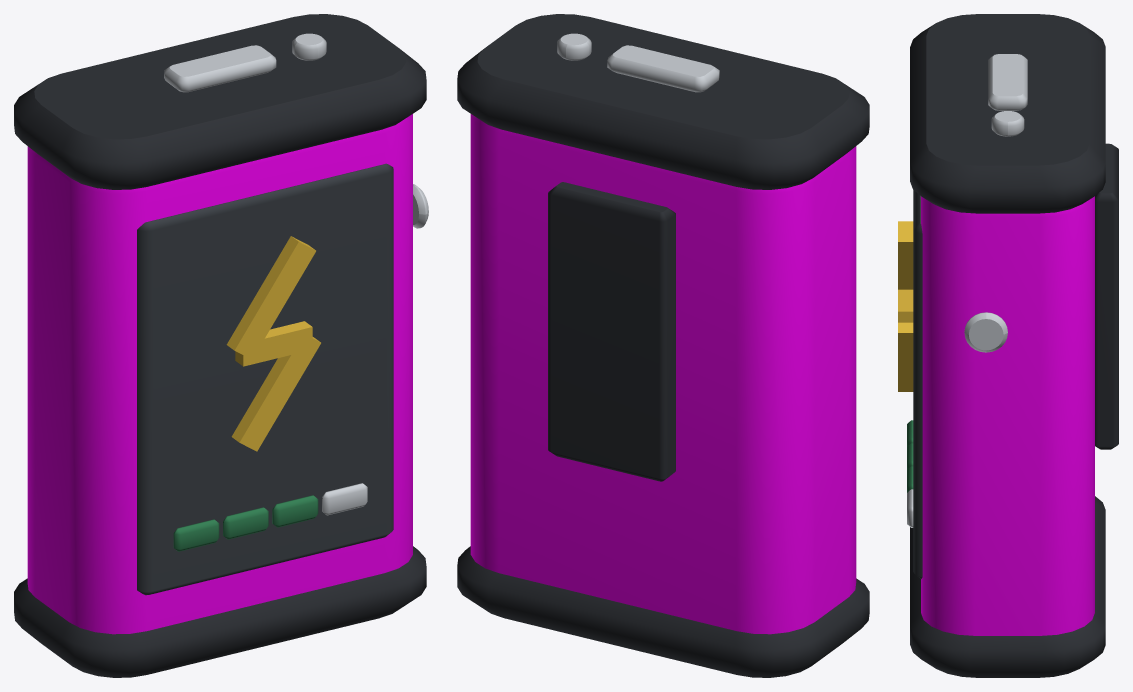
The model's file is objet_batterie_portable.glb.
3 views of the same model, side by side, from view 1: azimuth 30°, elevation 25°; view 2: azimuth 150°, elevation 25°; view 3: azimuth 270°, elevation 25° (orthographic). The views are drawn at different scales.
Visible parts, largest first — view 1: batterie_teinte_sombre.002, batterie_teinte.002, batterie_composant.002, batterie_jaune.002, batterie_composant_clair.002, batterie_pcb_vert.002; view 2: batterie_teinte.002, batterie_composant.002, batterie_composant_clair.002; view 3: batterie_teinte.002, batterie_composant.002, batterie_composant_clair.002, batterie_teinte_sombre.002, batterie_jaune.002, batterie_pcb_vert.002.
Part boxes in pixels (x1,y1,x2,y2): batterie_teinte_sombre.002: [137, 163, 393, 595]; batterie_teinte.002: [27, 114, 412, 634]; batterie_composant.002: [14, 14, 426, 677]; batterie_jaune.002: [226, 236, 320, 451]; batterie_composant_clair.002: [164, 33, 428, 515]; batterie_pcb_vert.002: [173, 495, 318, 551]; batterie_teinte.002: [470, 114, 856, 634]; batterie_composant.002: [457, 14, 869, 677]; batterie_composant_clair.002: [557, 33, 719, 92]; batterie_teinte.002: [921, 196, 1094, 635]; batterie_composant.002: [910, 14, 1118, 677]; batterie_composant_clair.002: [907, 54, 1027, 527]; batterie_teinte_sombre.002: [913, 190, 922, 578]; batterie_jaune.002: [898, 221, 913, 391]; batterie_pcb_vert.002: [907, 420, 913, 492].
Size of the model in its own units: 0.185 by 0.2675 by 0.1015.
